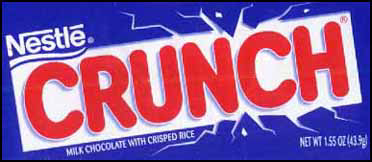grozi_50: (0, 0, 372, 162)
